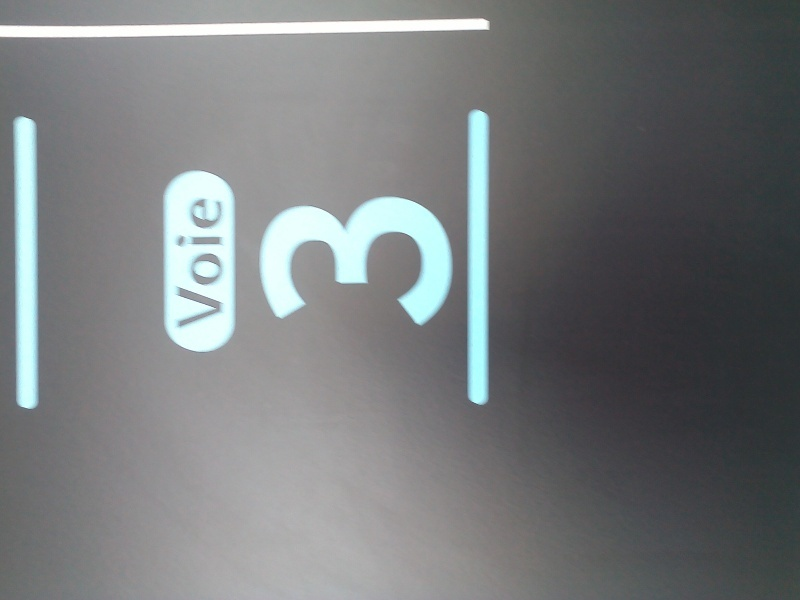text: (273, 193, 288, 329), (289, 193, 304, 329), (305, 193, 320, 329), (321, 193, 336, 329), (337, 193, 352, 329), (353, 193, 368, 329), (369, 193, 384, 329), (385, 193, 400, 329), (401, 193, 416, 329), (417, 193, 432, 329), (433, 193, 448, 329), (177, 196, 192, 330), (193, 196, 208, 330), (209, 196, 224, 330), (259, 193, 272, 329), (449, 193, 455, 329), (225, 196, 227, 330)
